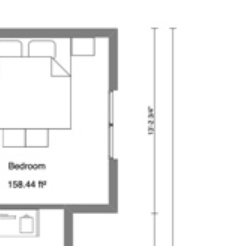window: (101, 81, 122, 162)
